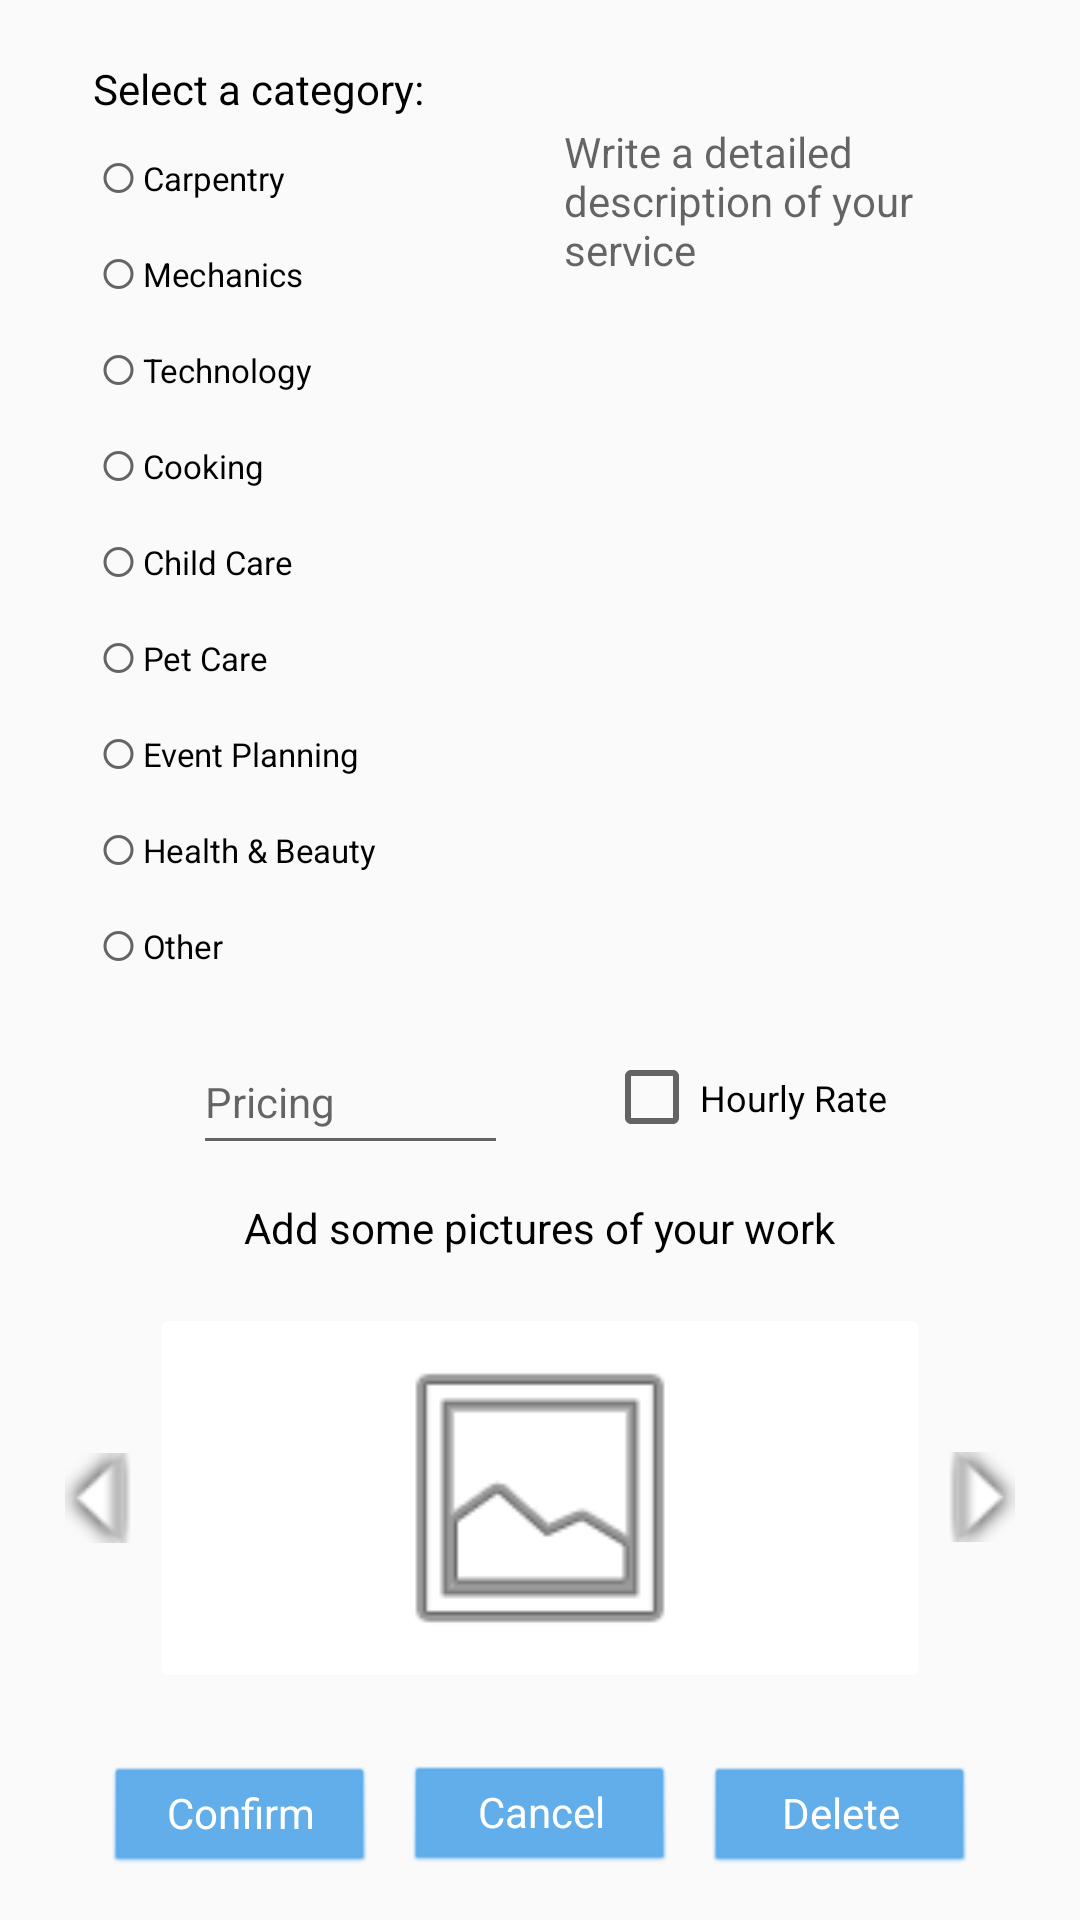

Icons on this 1080px x 1920px Android screen, each with its box as [left=x1, top=y1, right=x2, bottom=y2]:
Service Picture: [left=416, top=1373, right=664, bottom=1623]
